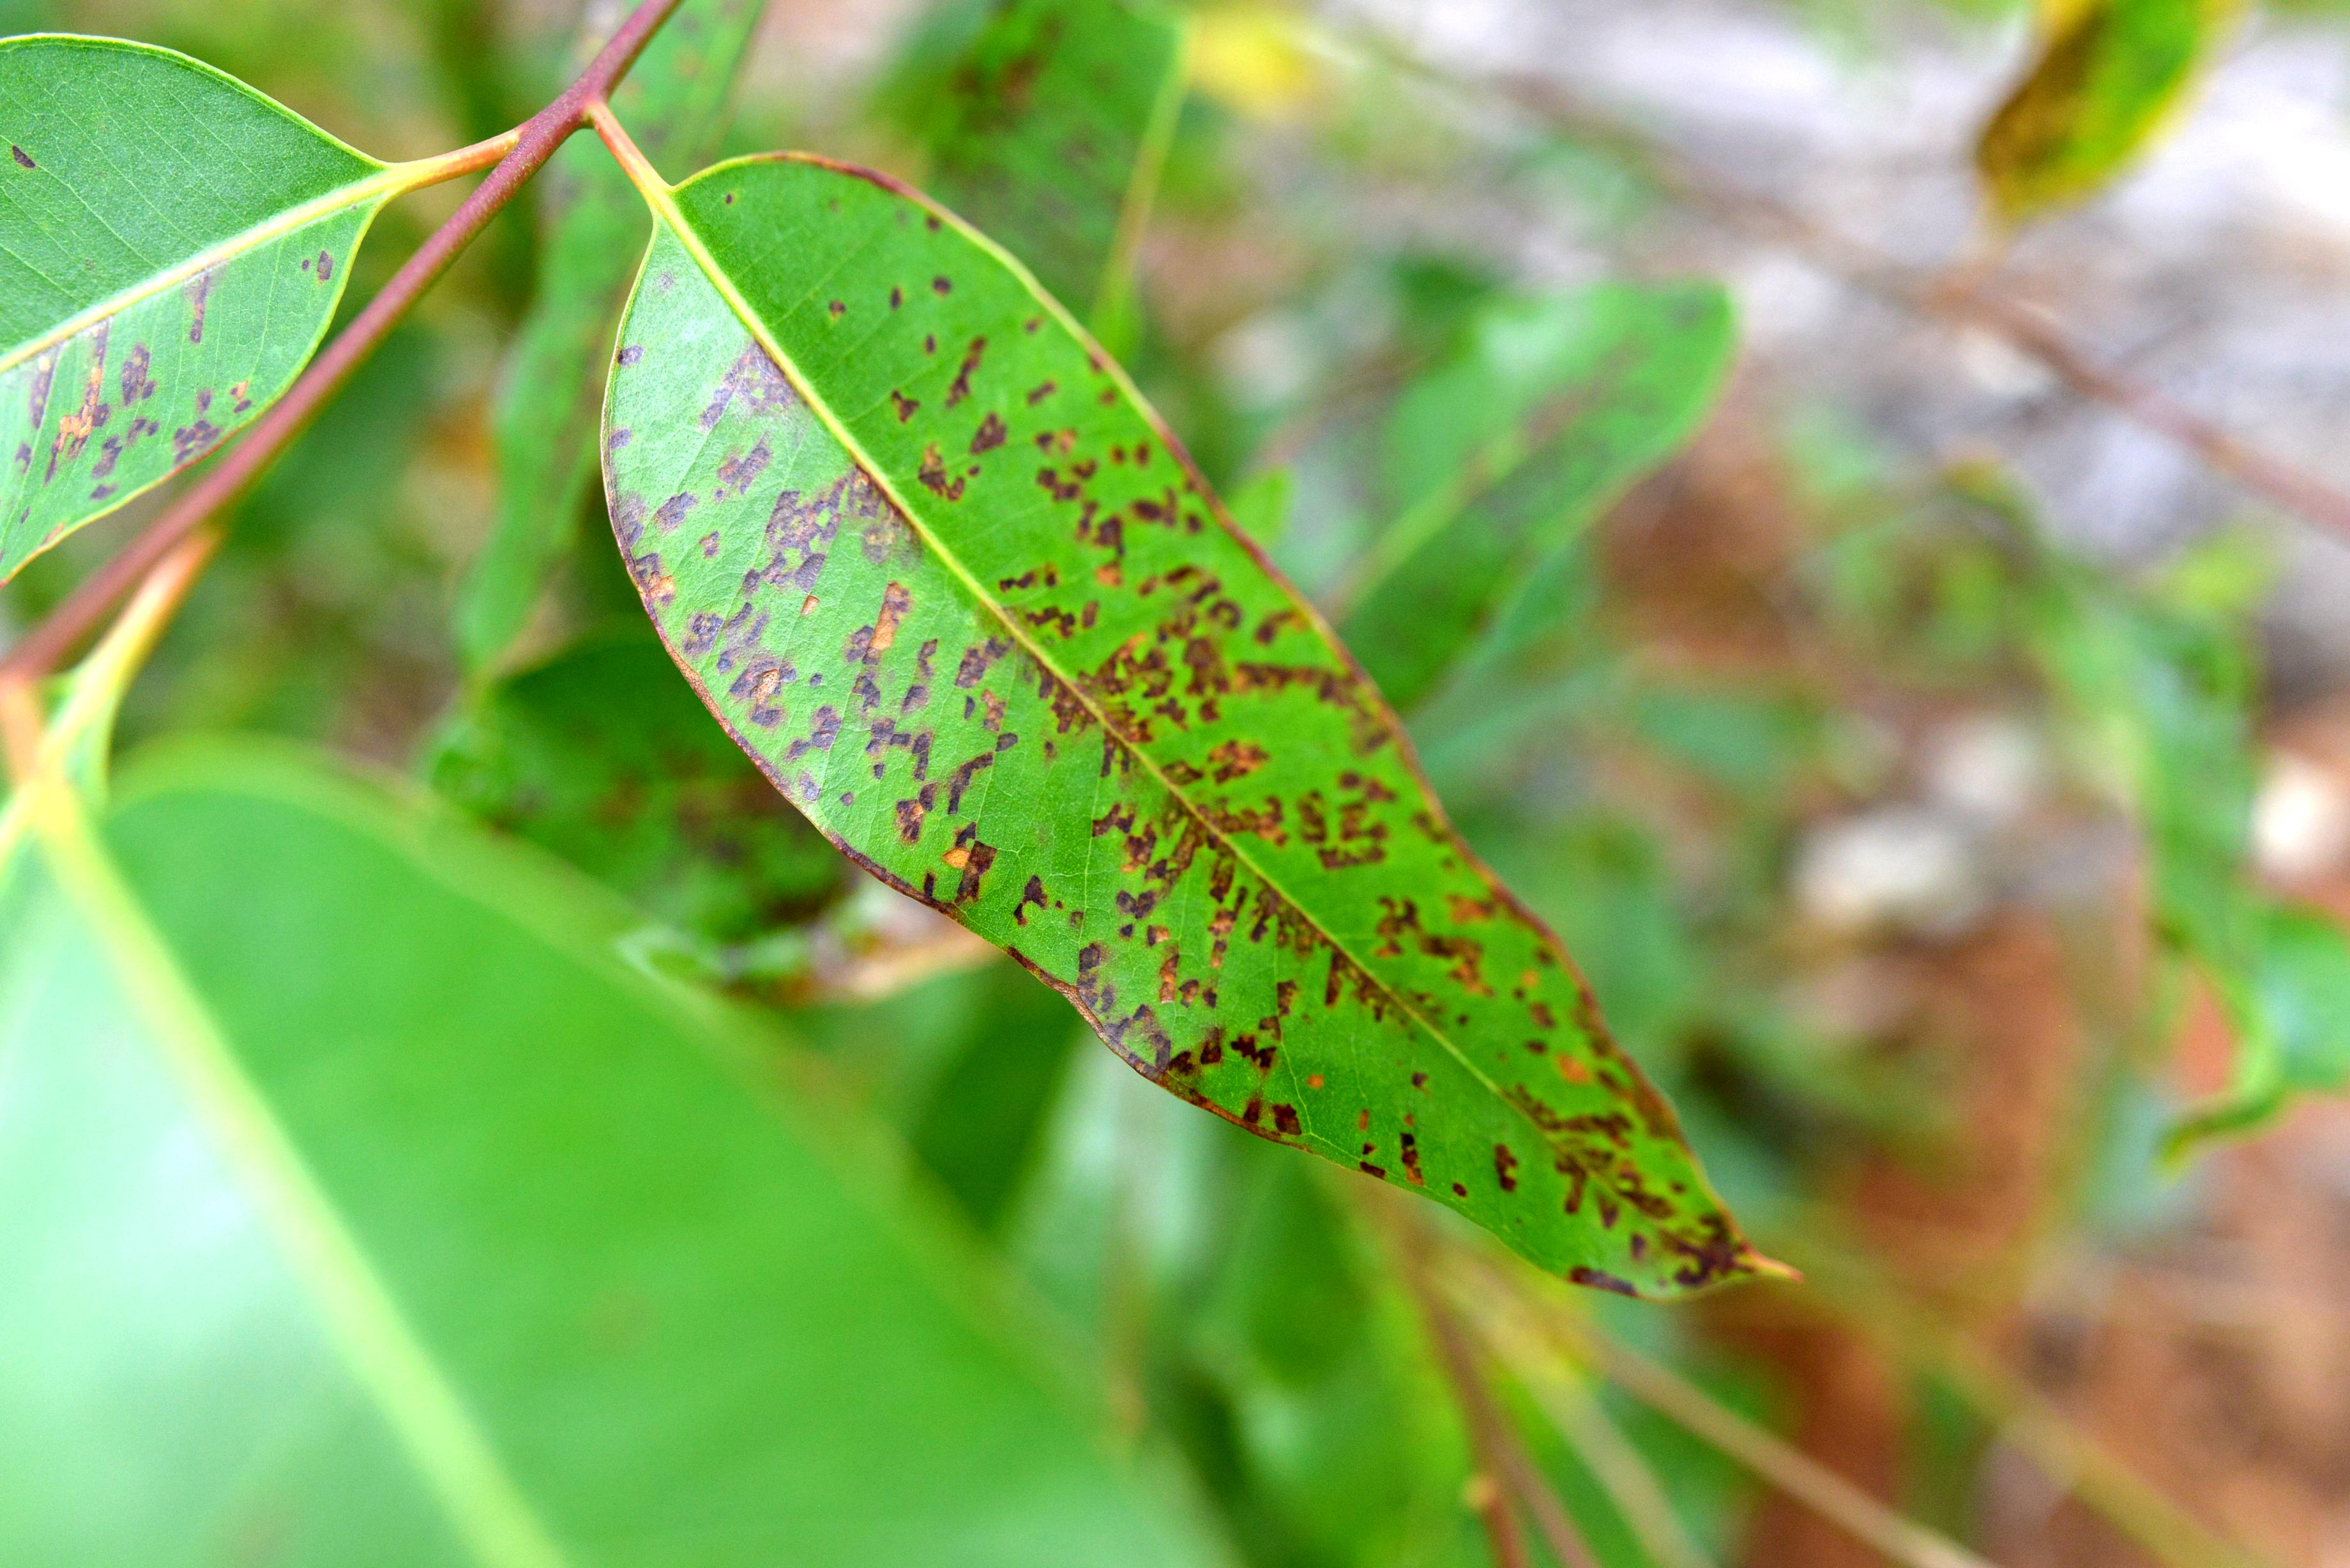Xanthomonas: (597, 152, 1799, 1304), (0, 26, 402, 577)
